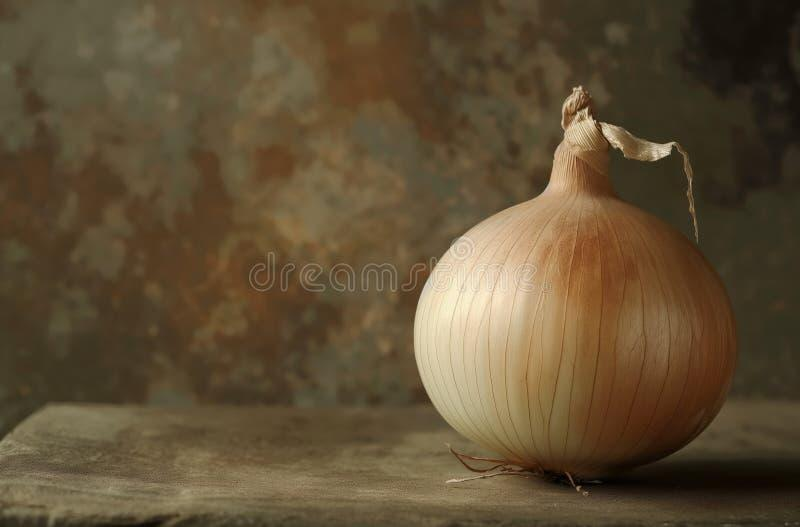Onion: (414, 86, 735, 479)
